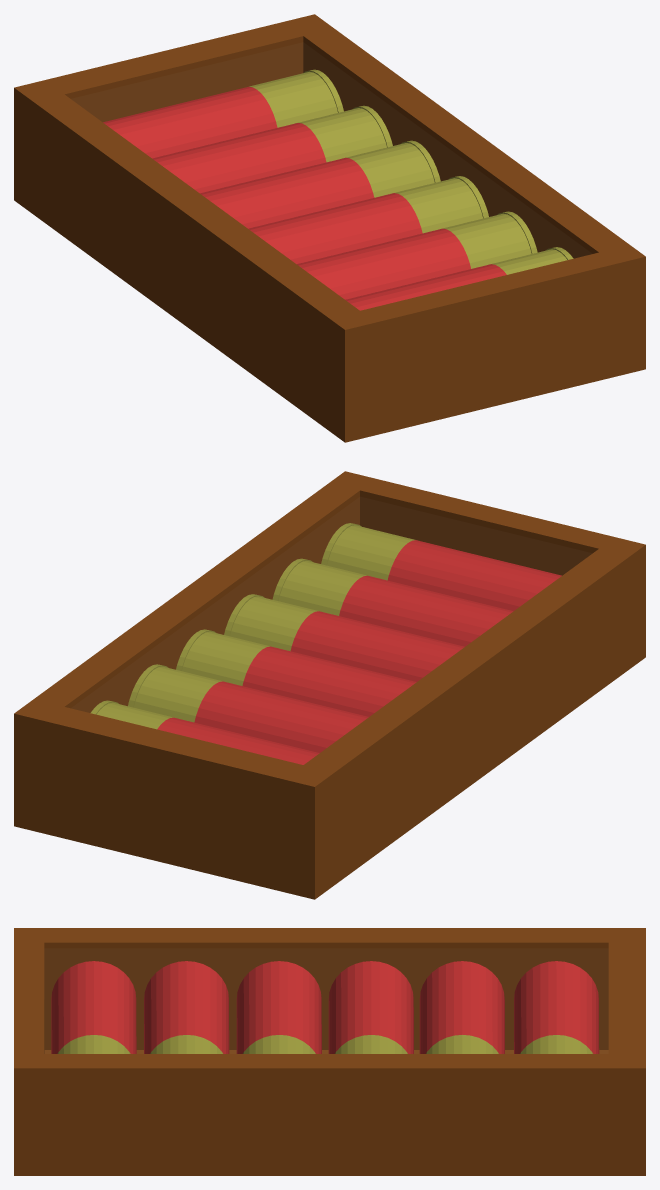
File: boxofshells.glb
3 views of the same model, one above another, from view 1: azimuth 30°, elevation 25°; view 2: azimuth 150°, elevation 25°; view 3: azimuth 270°, elevation 25° (orthographic). The views are drawn at different scales.
Visible parts, largest first — view 1: Cube, Cylinder.006, Cylinder.004, Cylinder.003, Cylinder.001, Cylinder.002, Cylinder.005; view 2: Cube, Cylinder.002, Cylinder.004, Cylinder.005, Cylinder.003, Cylinder.001, Cylinder.006; view 3: Cube, Cylinder.005, Cylinder.002, Cylinder.003, Cylinder.001, Cylinder.004, Cylinder.006.
Part boxes in pixels (x1=…): Cube: x1=14, y1=14, x2=645, y2=442; Cylinder.006: x1=103, y1=69, x2=343, y2=158; Cylinder.004: x1=297, y1=211, x2=537, y2=299; Cylinder.003: x1=248, y1=176, x2=488, y2=264; Cylinder.001: x1=200, y1=140, x2=440, y2=228; Cylinder.002: x1=152, y1=105, x2=392, y2=193; Cylinder.005: x1=345, y1=247, x2=573, y2=310; Cube: x1=14, y1=471, x2=645, y2=899; Cylinder.002: x1=128, y1=664, x2=368, y2=752; Cylinder.004: x1=272, y1=558, x2=513, y2=646; Cylinder.005: x1=321, y1=523, x2=561, y2=611; Cylinder.003: x1=224, y1=594, x2=464, y2=681; Cylinder.001: x1=176, y1=629, x2=416, y2=716; Cylinder.006: x1=90, y1=700, x2=319, y2=764; Cube: x1=14, y1=928, x2=645, y2=1175; Cylinder.005: x1=51, y1=961, x2=136, y2=1053; Cylinder.002: x1=419, y1=961, x2=504, y2=1053; Cylinder.003: x1=236, y1=961, x2=321, y2=1053; Cylinder.001: x1=328, y1=961, x2=413, y2=1053; Cylinder.004: x1=144, y1=961, x2=229, y2=1053; Cylinder.006: x1=514, y1=961, x2=599, y2=1053.
Size of the model in its own units: 1.24 by 0.4457 by 2.37.
Materials: 4 (3 with a texture image).
